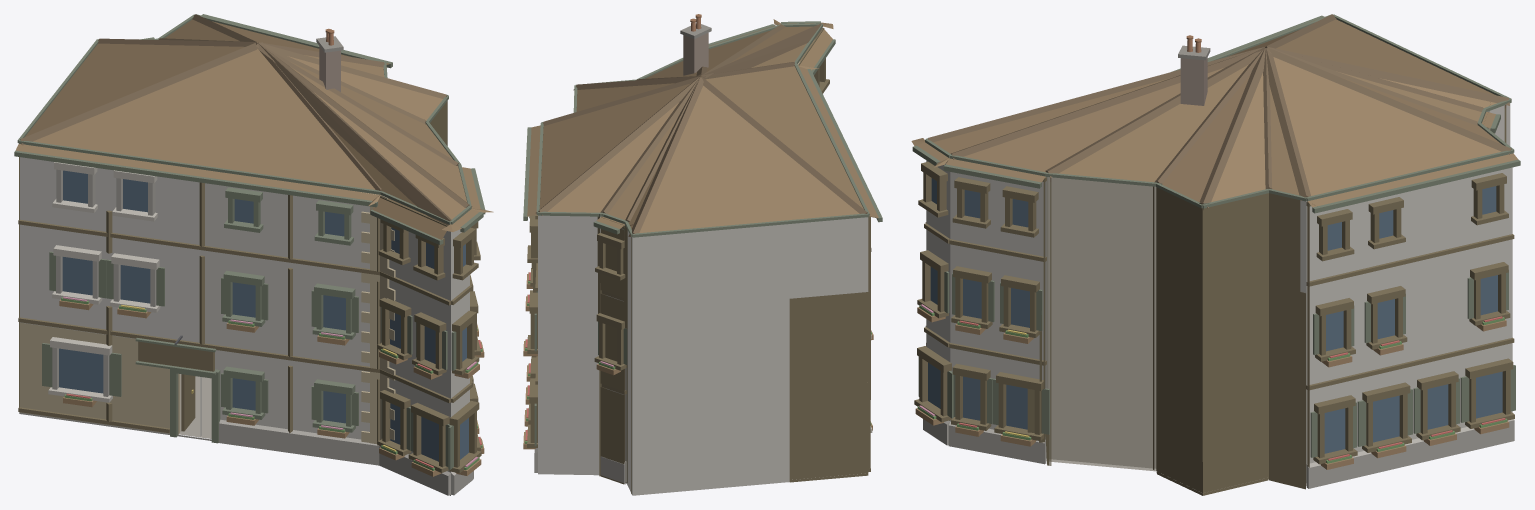
The model's file is b029_closed.glb.
3 views of the same model, side by side, from view 1: azimuth 30°, elevation 25°; view 2: azimuth 150°, elevation 25°; view 3: azimuth 270°, elevation 25° (orthographic). The views are drawn at different scales.
Visible parts, largest first — view 1: B029_visible; view 2: B029_visible; view 3: B029_visible.
Part boxes in pixels (x1,y1,x2,y2): B029_visible: (14,14,493,495); B029_visible: (523,14,882,495); B029_visible: (911,14,1520,495).
Size of the model in its own units: 14.09 by 13.27 by 18.51.
